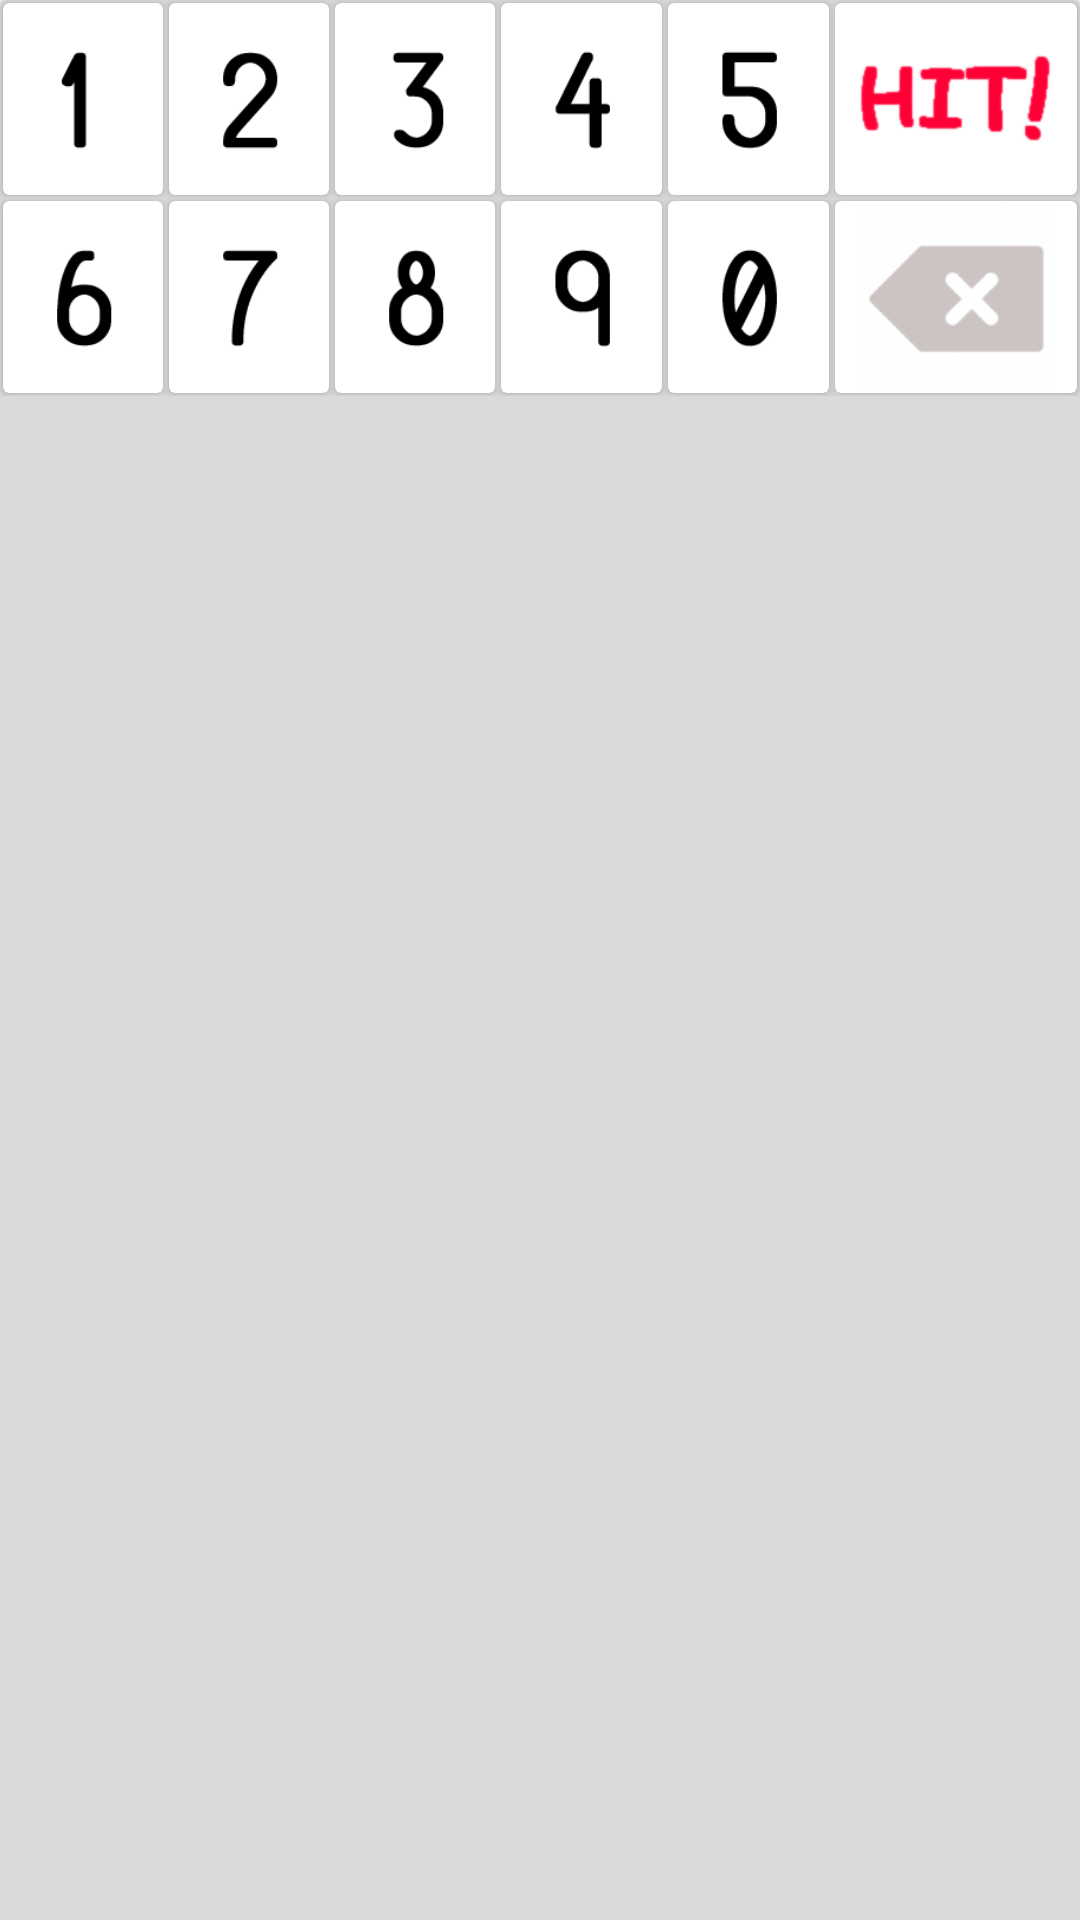

Where to tap for icons on this 1080×1920 app screen, as (x,y):
del: (956,297)
